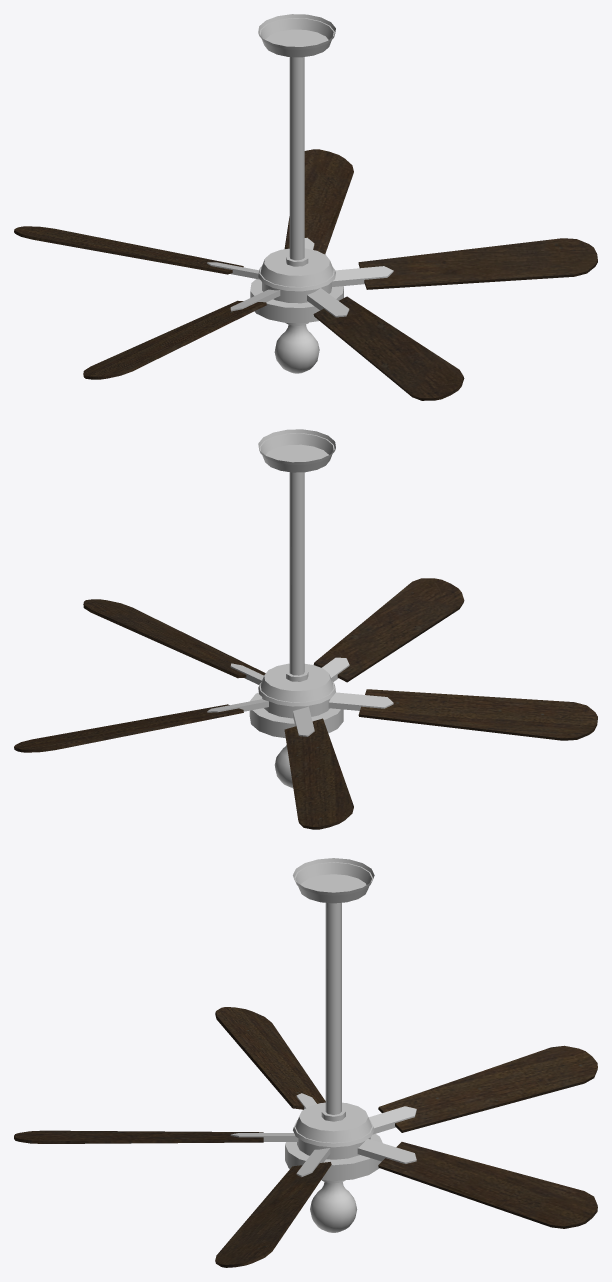
The model's file is ceiling_fan_mp_2_1_light_off.fbx.
The picture shows the model from 3 angles, top to bottom: view 1: azimuth 30°, elevation 25°; view 2: azimuth 150°, elevation 25°; view 3: azimuth 270°, elevation 25°; orthographic projection. The views are drawn at different scales.
Parts seen in each view (by area): view 1: ceiling_fan_mp_2_1_light_off_blades, ceiling_fan_mp_2_1_light_off; view 2: ceiling_fan_mp_2_1_light_off_blades, ceiling_fan_mp_2_1_light_off; view 3: ceiling_fan_mp_2_1_light_off_blades, ceiling_fan_mp_2_1_light_off.
Boxes of the visible parts, x1=… form: ceiling_fan_mp_2_1_light_off_blades: x1=14, y1=149, x2=597, y2=400; ceiling_fan_mp_2_1_light_off: x1=250, y1=14, x2=343, y2=373; ceiling_fan_mp_2_1_light_off_blades: x1=14, y1=578, x2=597, y2=829; ceiling_fan_mp_2_1_light_off: x1=249, y1=429, x2=343, y2=788; ceiling_fan_mp_2_1_light_off_blades: x1=14, y1=1007, x2=597, y2=1267; ceiling_fan_mp_2_1_light_off: x1=285, y1=858, x2=382, y2=1232.
Bounding box in the file's own units: 1.11 × 0.7128 × 1.06.
